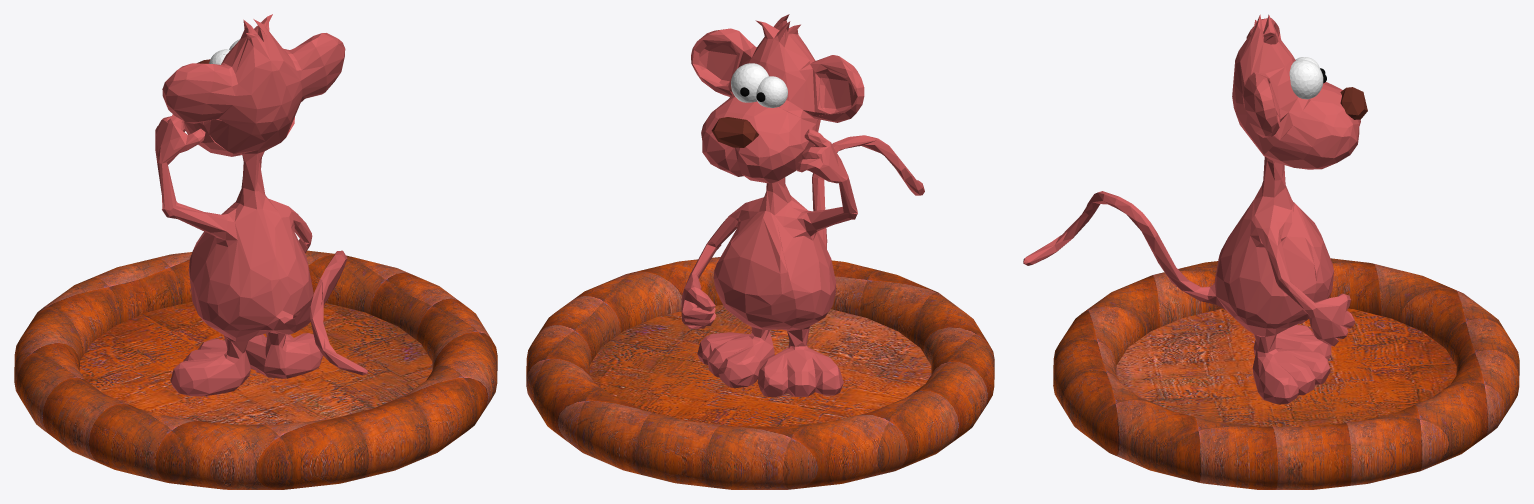
The model's file is playerRedMonkey.DAE.
3 views of the same model, side by side, from view 1: azimuth 30°, elevation 25°; view 2: azimuth 150°, elevation 25°; view 3: azimuth 270°, elevation 25° (orthographic). The views are drawn at different scales.
Parts seen in each view (by area): view 1: Torus002, node_mesh2, Zylinder004; view 2: Torus002, node_mesh2, Zylinder004, node_mesh3, node_mesh7, node_mesh6; view 3: Torus002, node_mesh2, Zylinder004, node_mesh7, node_mesh3.
Boxes of the visible parts, x1,y1,x2,y2 form: Torus002: [14, 250, 497, 489]; node_mesh2: [155, 14, 367, 396]; Zylinder004: [79, 301, 432, 424]; Torus002: [526, 257, 994, 489]; node_mesh2: [681, 14, 924, 397]; Zylinder004: [589, 305, 931, 426]; node_mesh3: [711, 117, 758, 147]; node_mesh7: [731, 63, 768, 102]; node_mesh6: [756, 76, 787, 107]; Torus002: [1053, 258, 1519, 489]; node_mesh2: [1023, 14, 1360, 404]; Zylinder004: [1116, 308, 1456, 426]; node_mesh7: [1289, 59, 1323, 99]; node_mesh3: [1340, 87, 1367, 119].
Size of the model in its own units: 0.9583 by 1.02 by 0.8617.
Materials: 5 (5 with a texture image).
